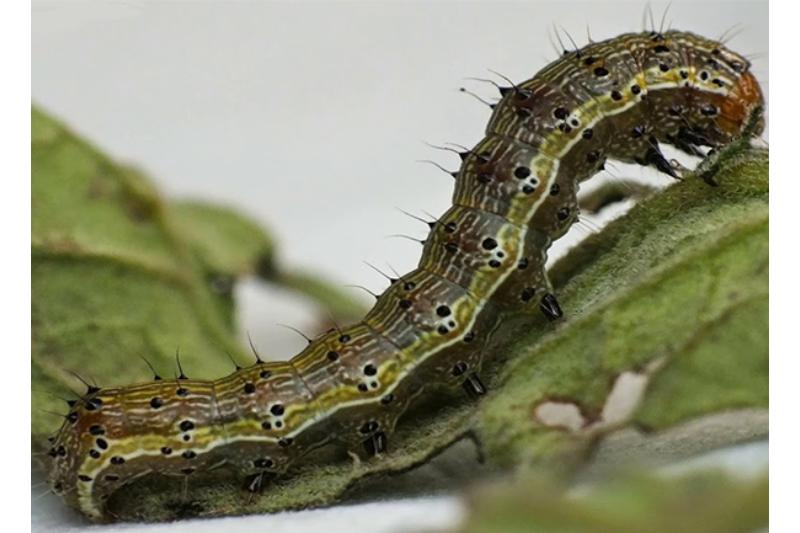fall-armyworm: (50, 32, 764, 527)
